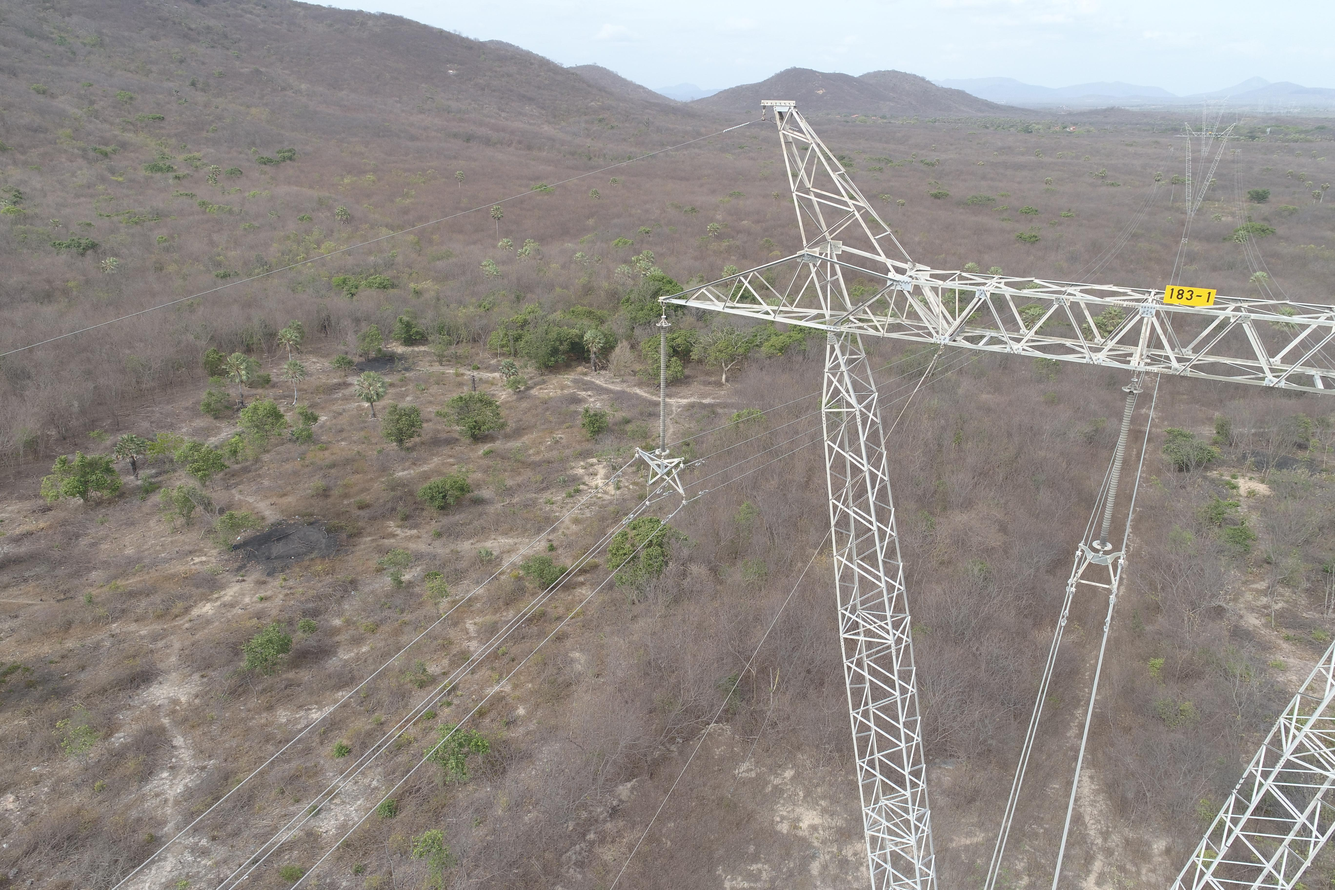power_tower: (636, 100, 1335, 889), (1174, 121, 1243, 216), (1194, 92, 1237, 157)
